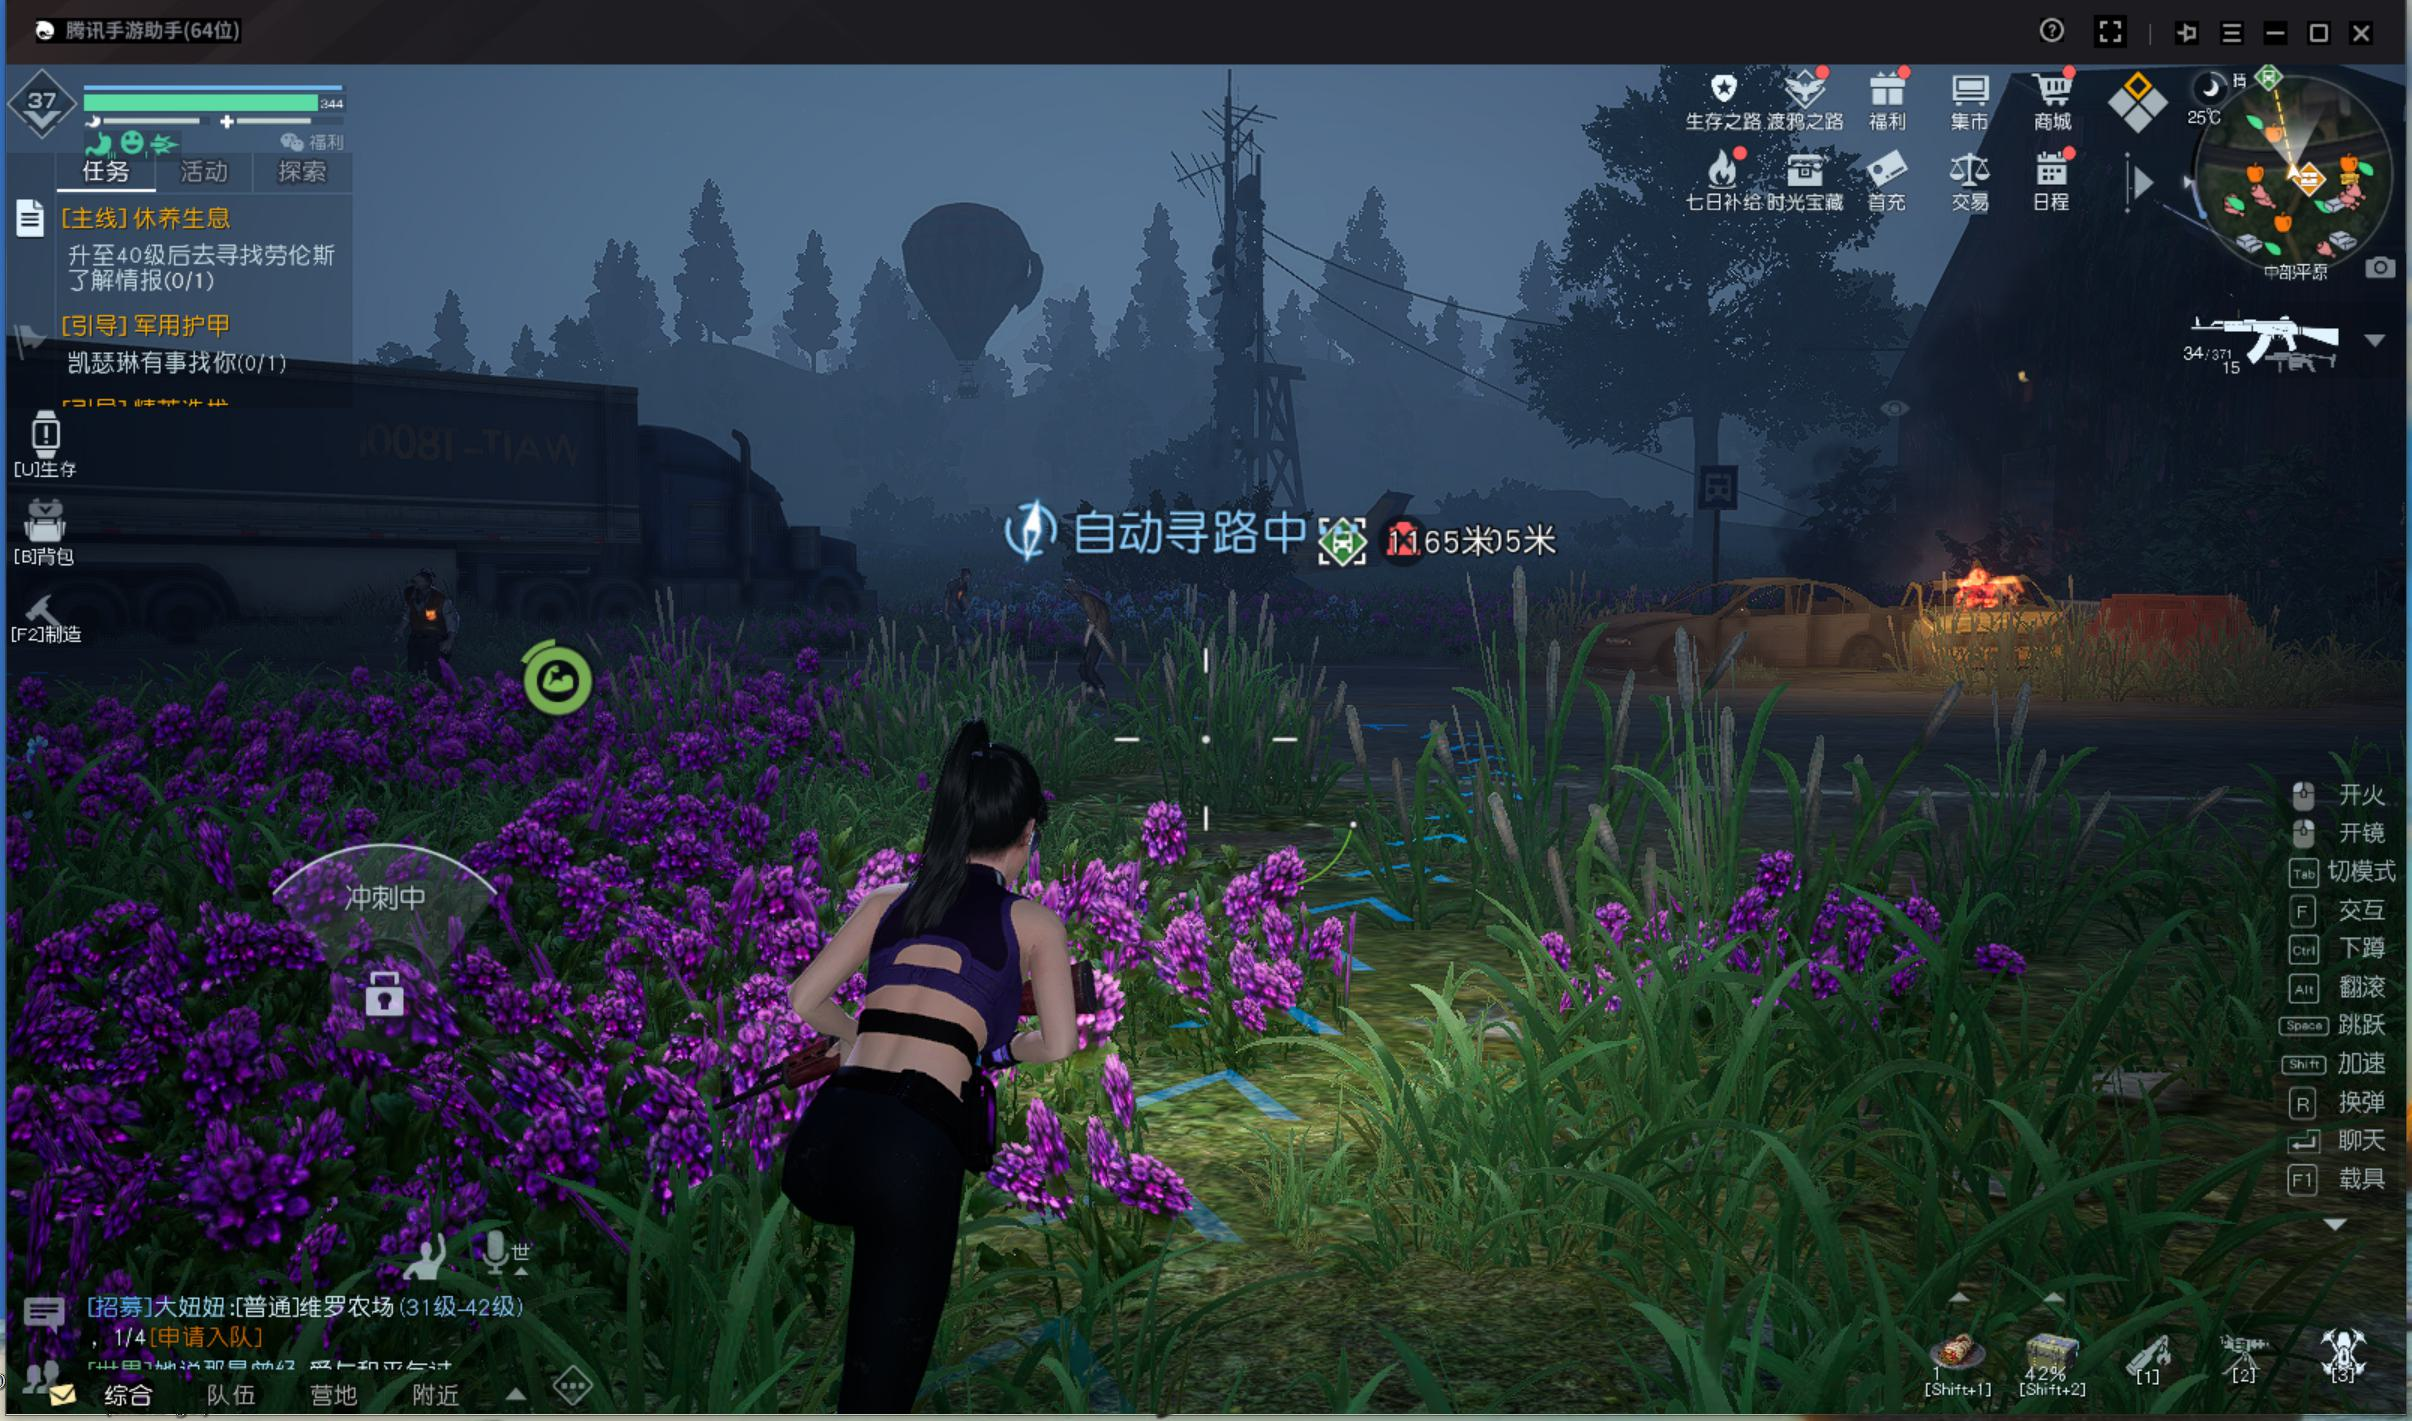tree: (1680, 423, 1730, 594)
